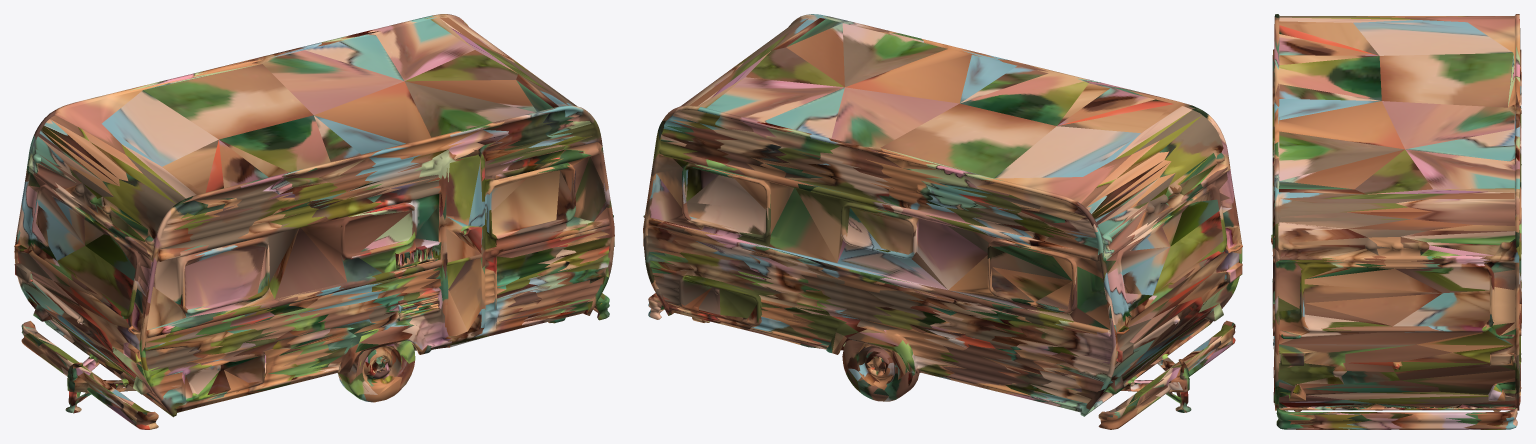
The model's file is Rusty_Caravan.fbx.
3 views of the same model, side by side, from view 1: azimuth 30°, elevation 25°; view 2: azimuth 150°, elevation 25°; view 3: azimuth 270°, elevation 25° (orthographic). The views are drawn at different scales.
Parts seen in each view (by area): view 1: Mesh_0; view 2: Mesh_0; view 3: Mesh_0.
Part boxes in pixels (bbox=[...]): Mesh_0: bbox=[14, 14, 614, 429]; Mesh_0: bbox=[643, 14, 1242, 429]; Mesh_0: bbox=[1271, 14, 1521, 429].
Bounding box in the file's own units: 200 × 100 × 92.6.
